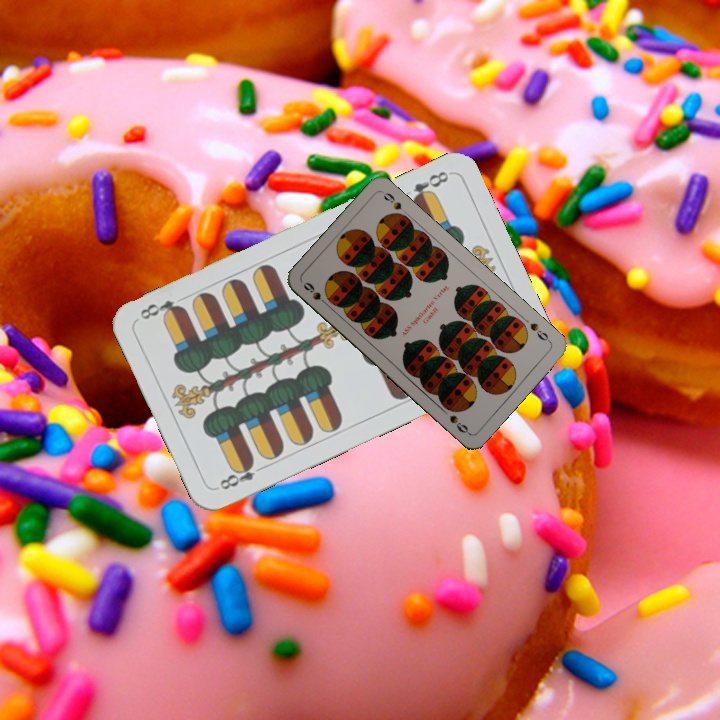E8: (215, 456, 269, 493), (407, 167, 452, 207)
S9: (299, 278, 332, 310), (526, 319, 553, 345)
